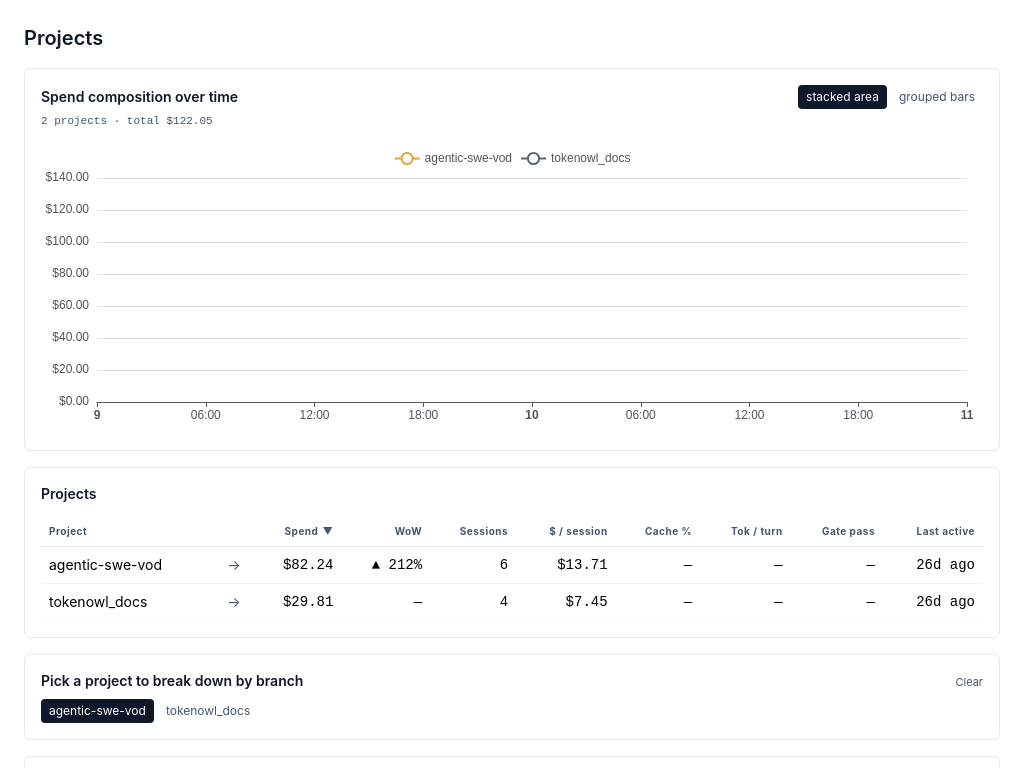
Test: Projects page shell › clears a selected project that disappears after a global project filter changes
Click the button "agentic-swe-vod" at (97, 711), box top-left (41, 699), bottom-right (154, 723)
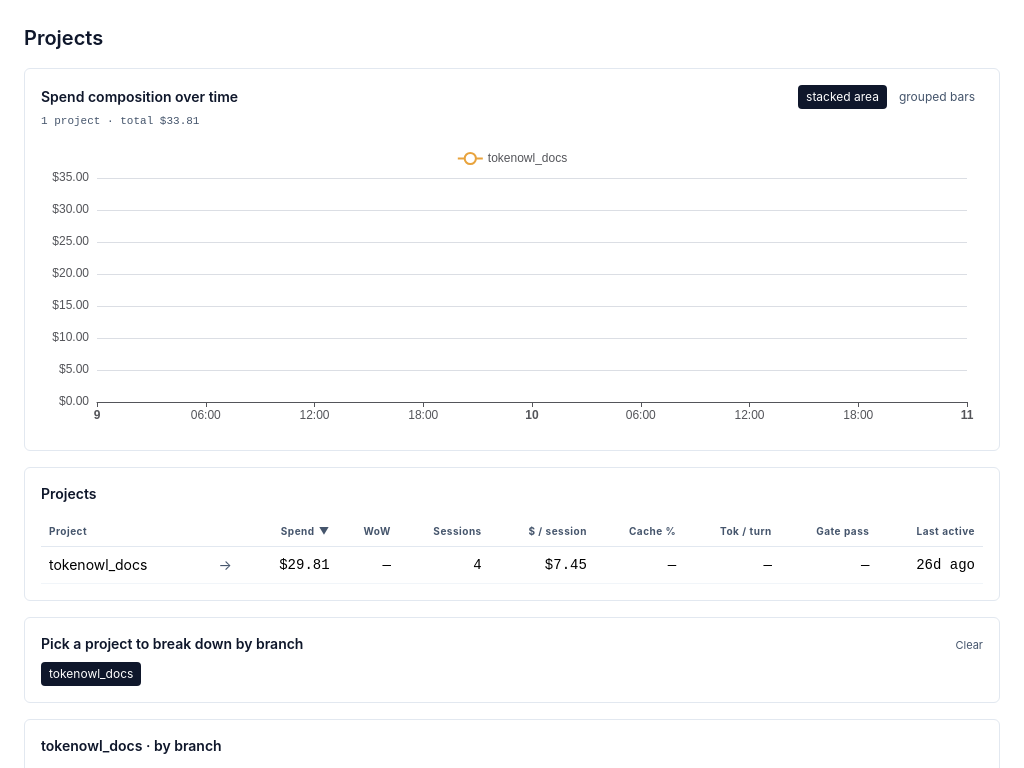
Expected: the heading "tokenowl_docs · by branch" is shown, top-left (41, 736), bottom-right (222, 756)
